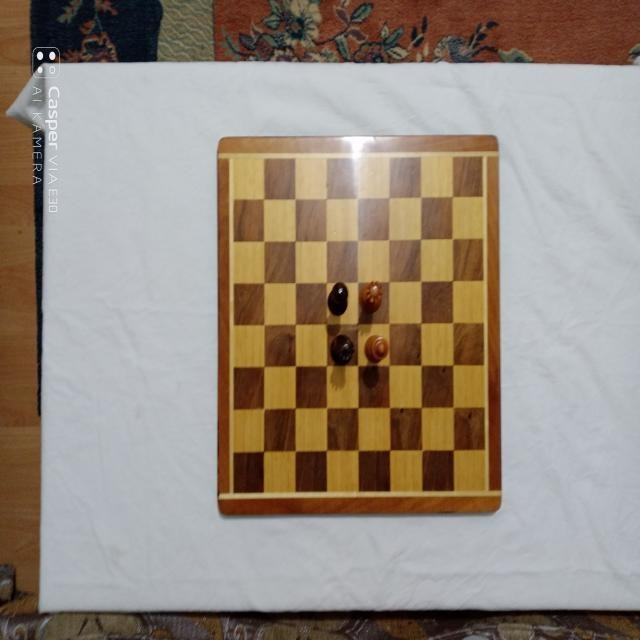black-king: (327, 280, 348, 315)
black-queen: (329, 333, 355, 366)
white-king: (365, 333, 389, 365)
white-queen: (359, 279, 385, 313)
